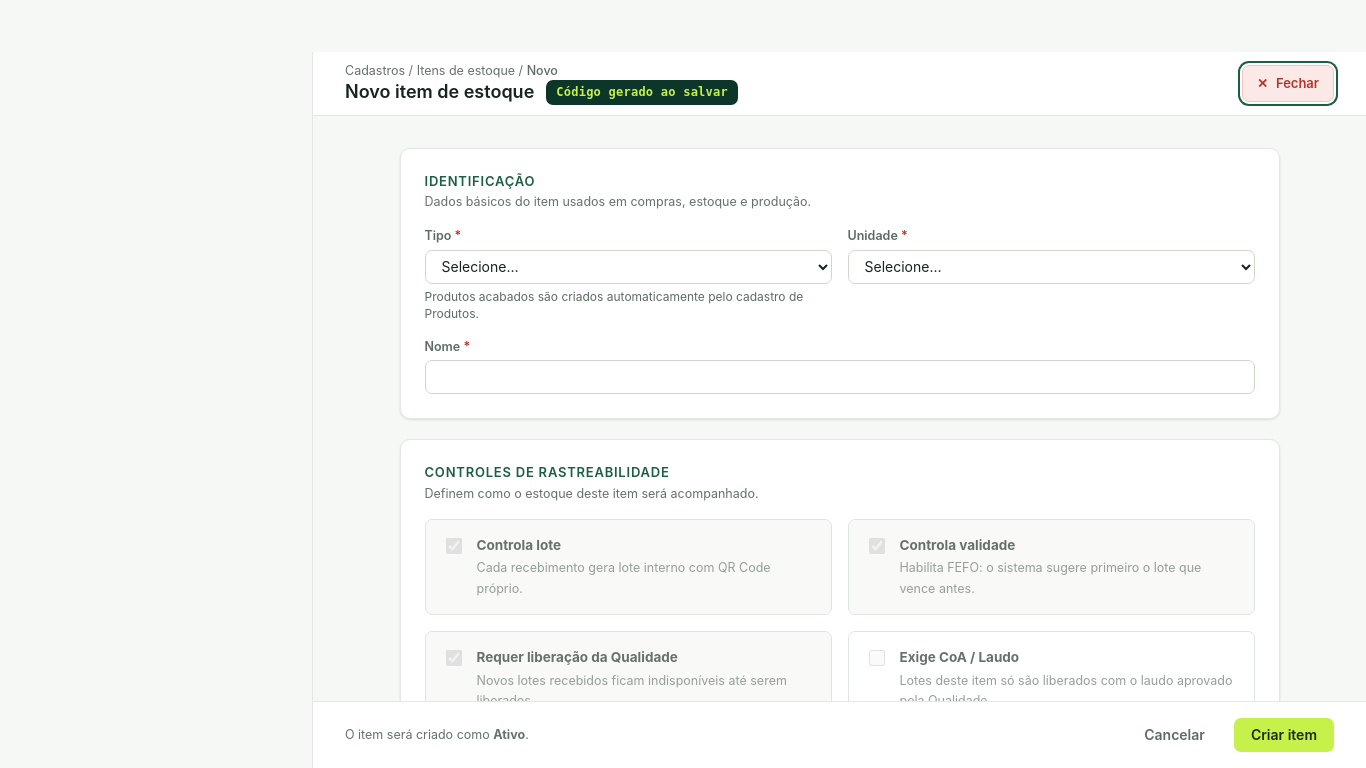
it: Item — seção Arquivo do rótulo › criação de embalagem Rótulo já mostra o arquivo do rótulo, no próprio formulário
The image size is (1366, 768).
Select "Material de embalagem" in the dropdown with id "item-type": coordinates (628, 266) [424, 250, 832, 284]
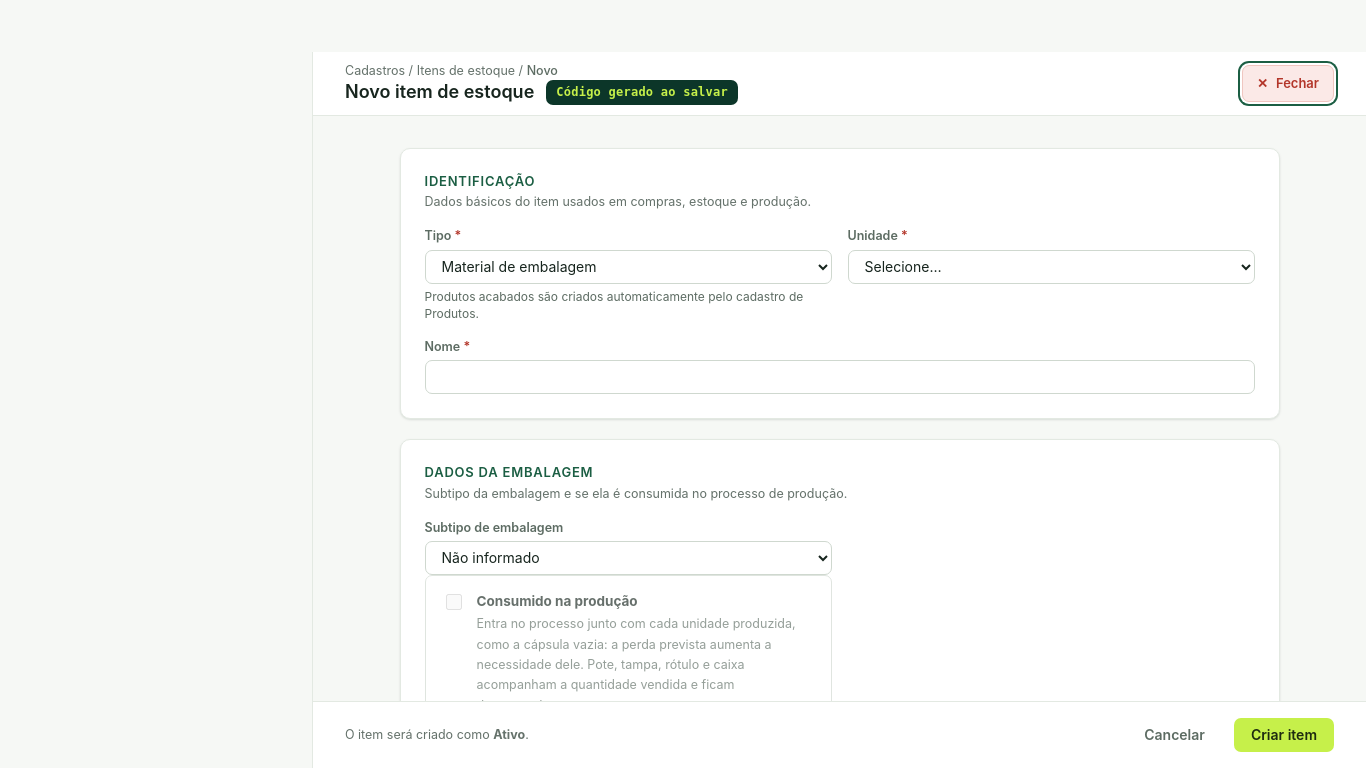
Select "Rótulo" in the dropdown with id "item-packaging-subtype": coordinates (628, 558) [424, 541, 832, 575]
(page scrolled)
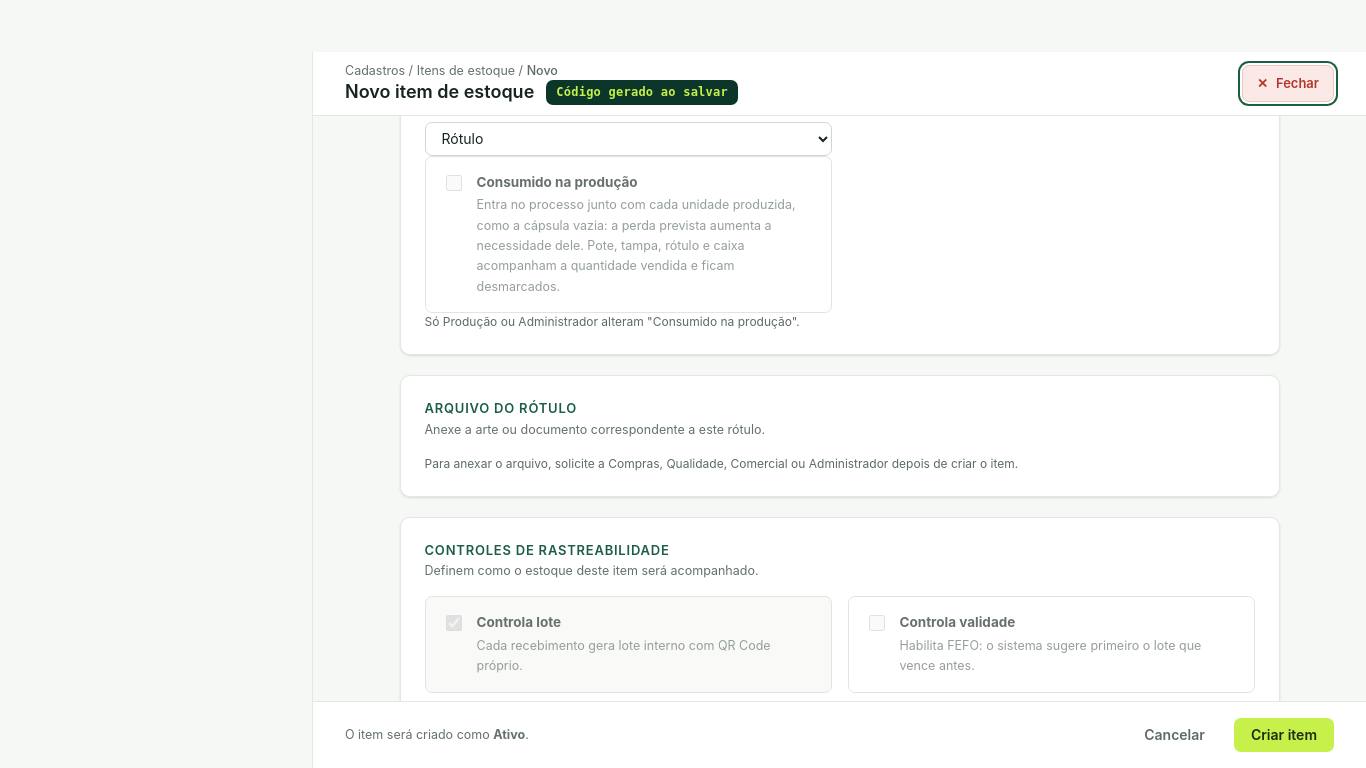
Now the heading "Arquivo do rótulo" is shown, box [424, 400, 577, 416]
